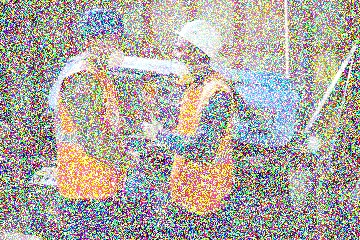helmet: (77, 5, 134, 69), (169, 19, 223, 80)
vest: (48, 56, 127, 205), (165, 70, 239, 215)
